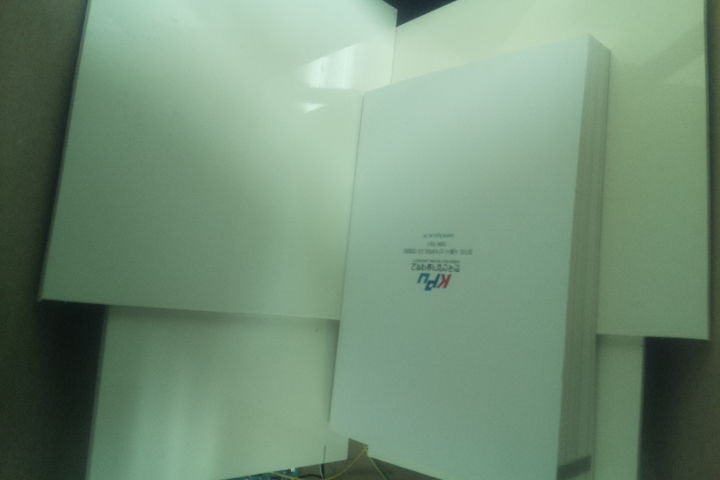book: (325, 32, 616, 480)
